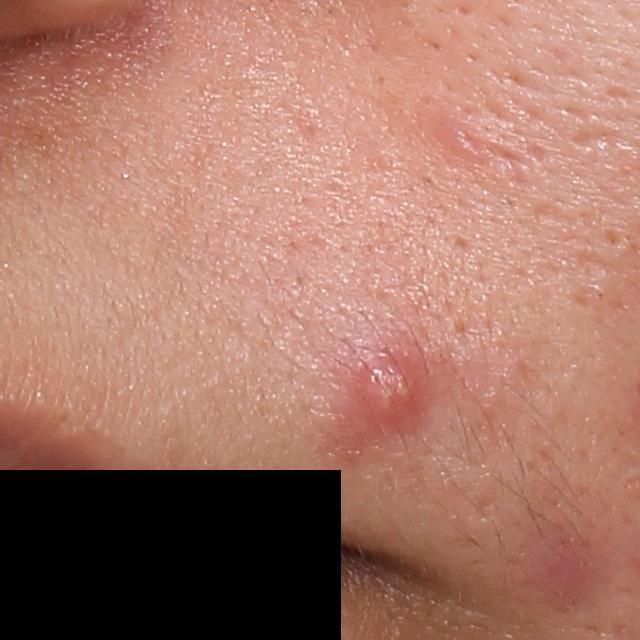atrophic_scar: (566, 125, 620, 153)
papule: (347, 349, 424, 434), (530, 531, 599, 596)
